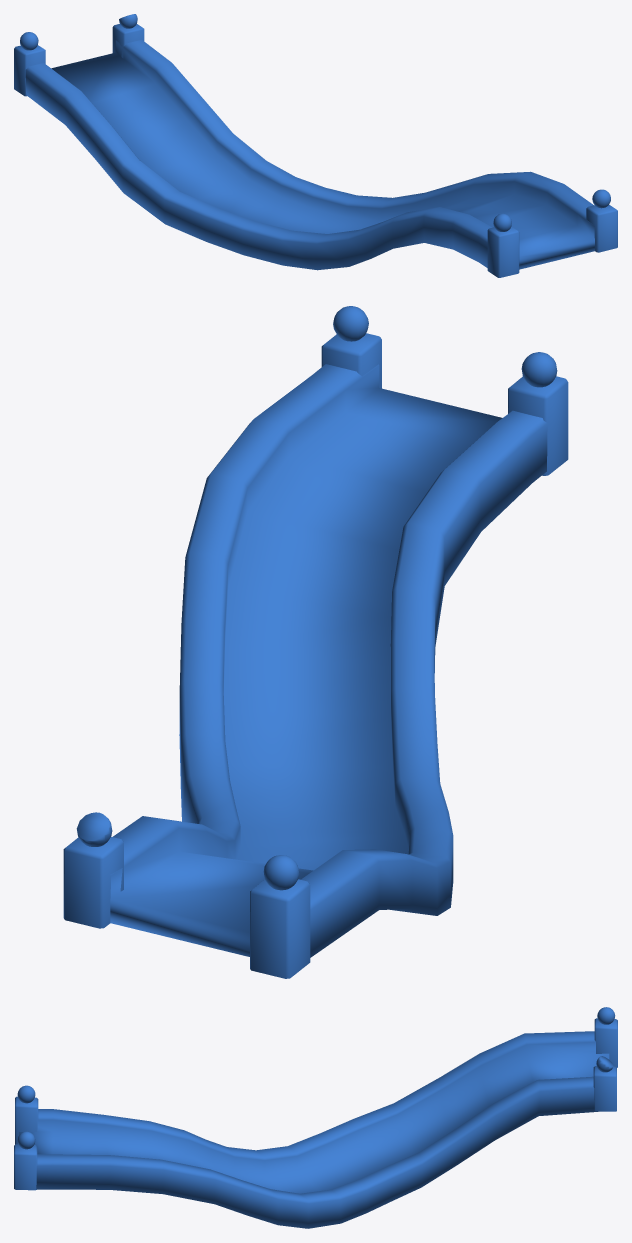
File: SM_environment_bridge_down_mar30.fbx
The picture shows the model from 3 angles, top to bottom: view 1: azimuth 30°, elevation 25°; view 2: azimuth 150°, elevation 25°; view 3: azimuth 270°, elevation 25°; orthographic projection. The views are drawn at different scales.
Visible parts, largest first — view 1: SM_bridge_down_01; view 2: SM_bridge_down_01; view 3: SM_bridge_down_01.
Boxes of the visible parts, x1,y1,x2,y2 form: SM_bridge_down_01: [14, 14, 617, 277]; SM_bridge_down_01: [63, 306, 568, 978]; SM_bridge_down_01: [14, 1007, 617, 1228].
Bounding box in the file's own units: 3208 × 1416 × 6111.
